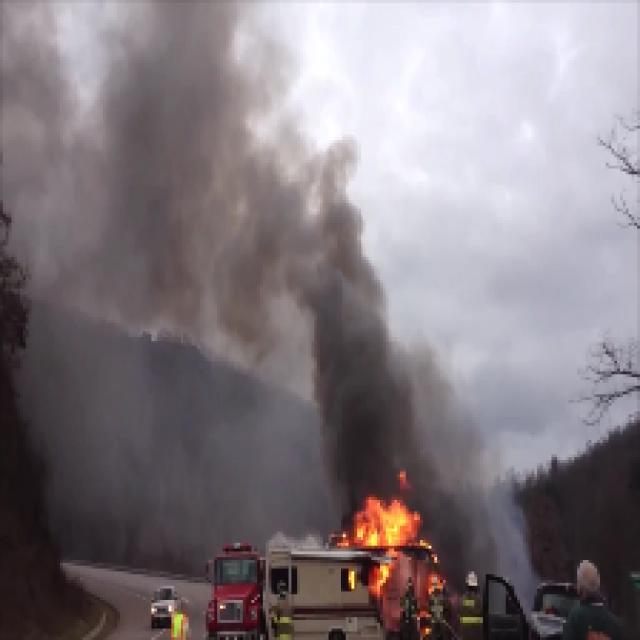Fire: (341, 486, 429, 556)
Smoke: (79, 13, 310, 326), (309, 206, 414, 485)
